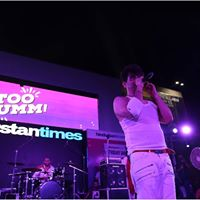tooyumm: (1, 85, 46, 117)
